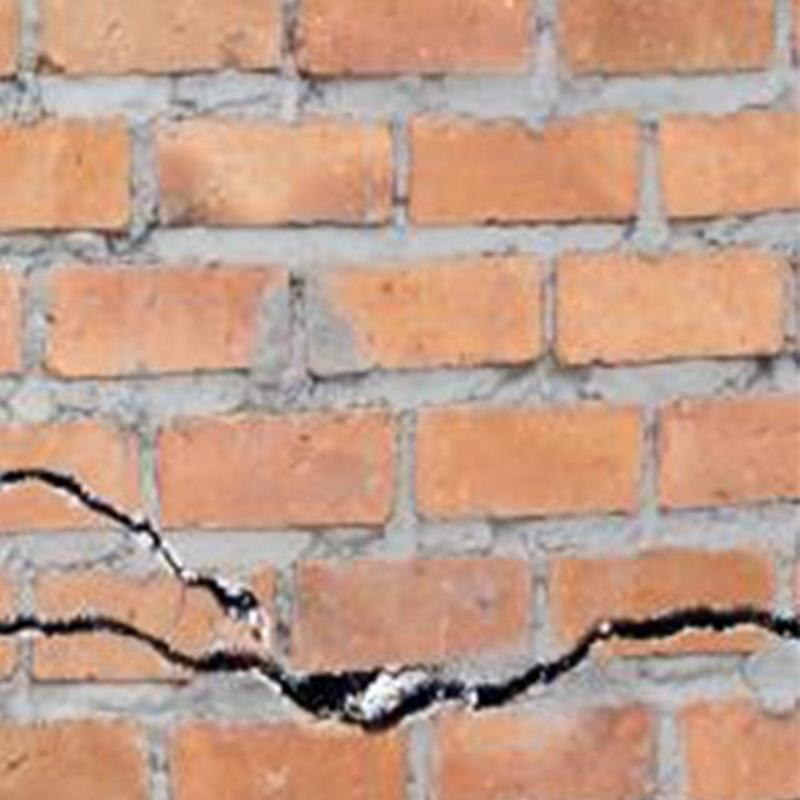pothole: (0, 608, 800, 730), (0, 467, 259, 622)
